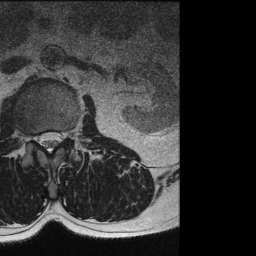CCS_normal: (45, 123, 53, 160)
LFS_normal: (63, 122, 71, 145)
LLS_normal: (54, 122, 63, 151)
RFS_stenosis: (27, 125, 36, 147)
RLS_normal: (36, 124, 45, 151)
